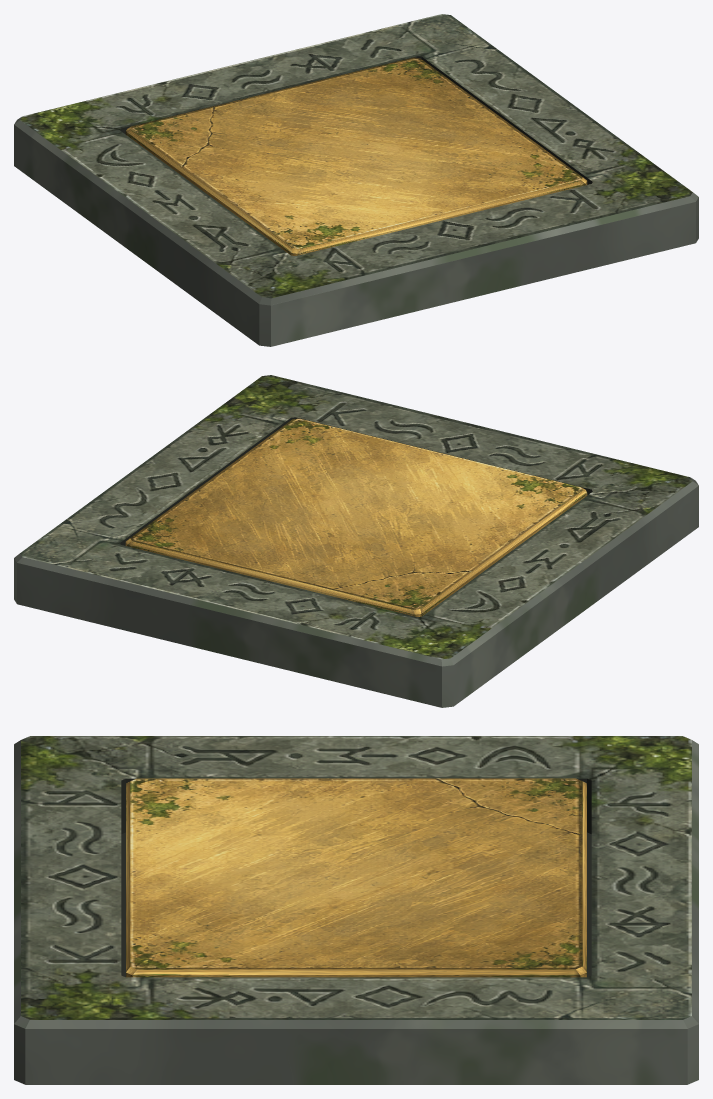
Rendered from Pressure_plate01.fbx.
3 views of the same model, one above another, from view 1: azimuth 30°, elevation 25°; view 2: azimuth 150°, elevation 25°; view 3: azimuth 270°, elevation 25° (orthographic). The views are drawn at different scales.
Visible parts, largest first — view 1: SM_Pressure_Plate_Move_Y; view 2: SM_Pressure_Plate_Move_Y; view 3: SM_Pressure_Plate_Move_Y.
Part boxes in pixels (box(x1,y1,x2,y2)): SM_Pressure_Plate_Move_Y: box(14, 14, 698, 346); SM_Pressure_Plate_Move_Y: box(14, 375, 698, 707); SM_Pressure_Plate_Move_Y: box(14, 736, 698, 1084).
Size of the model in its own units: 160 by 17.03 by 160.
4 materials, 3 textured.
